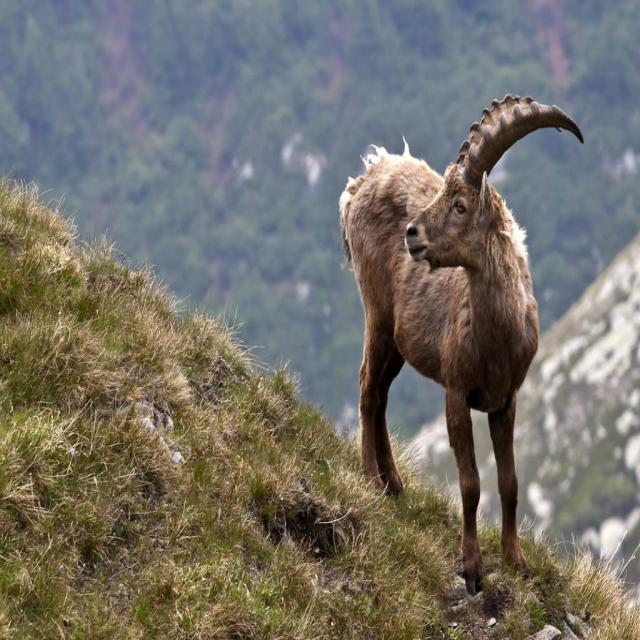Goat: (340, 94, 584, 596)
